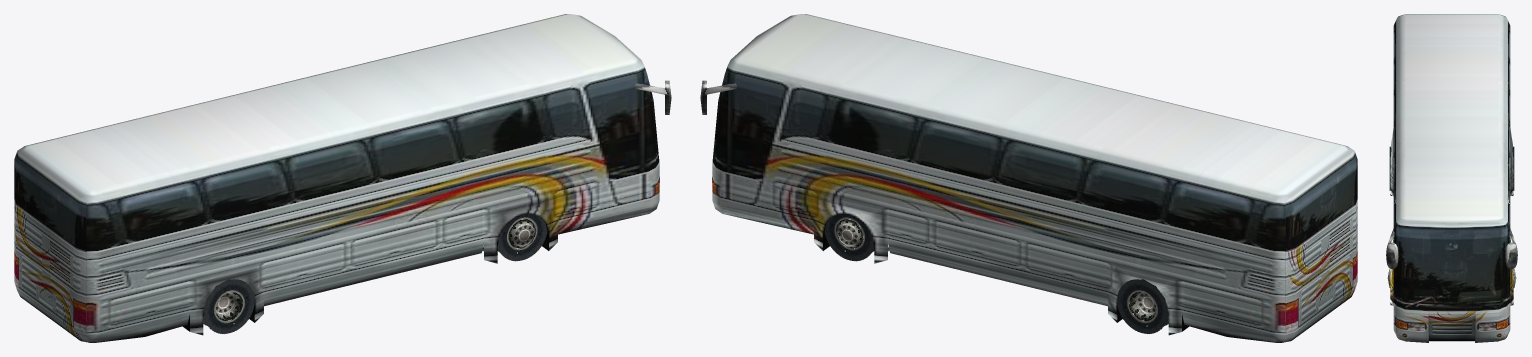
The model's file is avtobus_2.glb.
3 views of the same model, side by side, from view 1: azimuth 30°, elevation 25°; view 2: azimuth 150°, elevation 25°; view 3: azimuth 270°, elevation 25° (orthographic). The views are drawn at different scales.
Visible parts, largest first — view 1: Object_4; view 2: Object_4; view 3: Object_4.
Boxes of the visible parts, bbox=[...] form: Object_4: bbox=[14, 14, 671, 342]; Object_4: bbox=[700, 14, 1357, 342]; Object_4: bbox=[1386, 14, 1517, 342].
Size of the model in its own units: 12.38 by 3.35 by 3.16.
9 materials, 8 textured.
